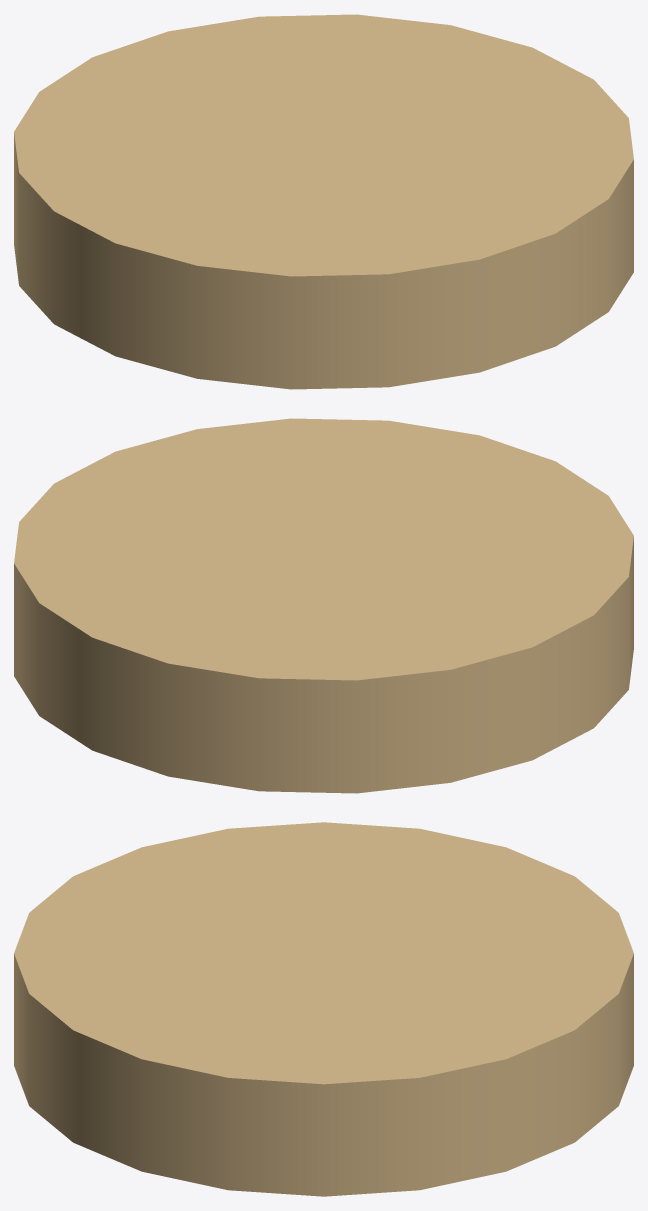
Rendered from underBakeCake.fbx.
3 renders of one model, top to bottom at view 1: azimuth 30°, elevation 25°; view 2: azimuth 150°, elevation 25°; view 3: azimuth 270°, elevation 25°, orthographic.
Visible parts, largest first — view 1: pCylinder1; view 2: pCylinder1; view 3: pCylinder1.
Part boxes in pixels (box(x1,y1,x2,y2)): pCylinder1: box(14, 14, 633, 389); pCylinder1: box(14, 418, 633, 793); pCylinder1: box(14, 822, 633, 1196).
Size of the model in its own units: 8 by 1.6 by 8.
